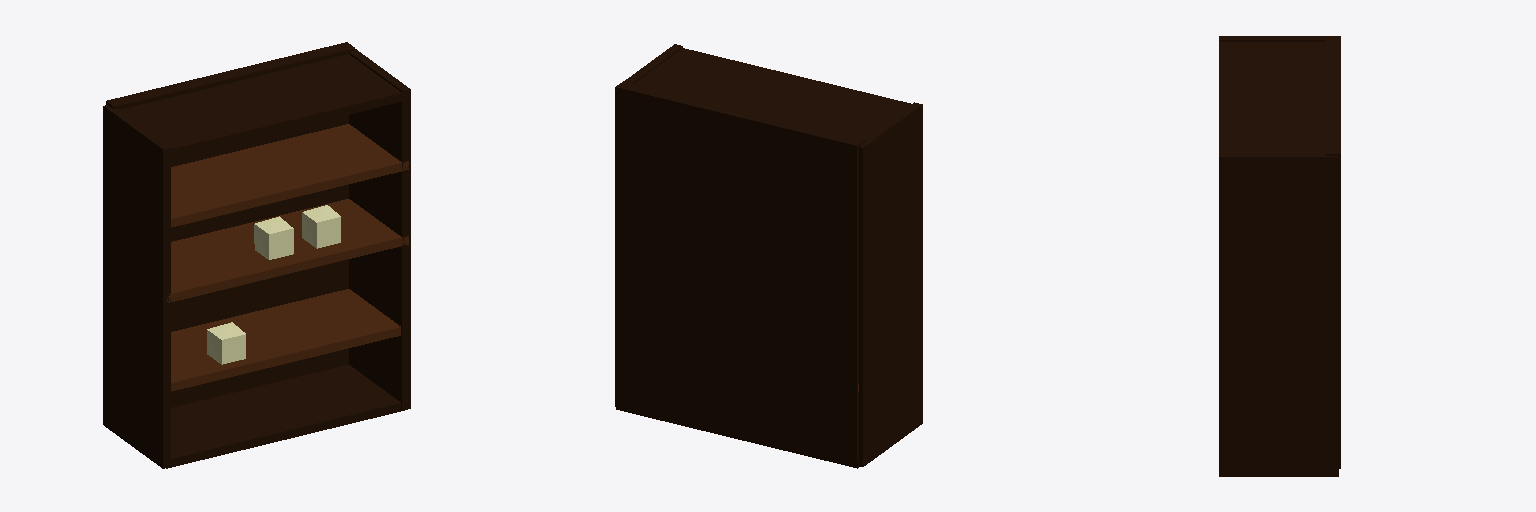
File: mueble2.obj
The picture shows the model from 3 angles: view 1: azimuth 30°, elevation 25°; view 2: azimuth 150°, elevation 25°; view 3: azimuth 270°, elevation 25°; orthographic projection.
Parts seen in each view (by area): view 1: Cube.032, Cube.030, Cube.029, Cube.033, Cube.028, Cube.031, Cube.009, Cube.034, Cube.037, Cube.038, Cube.035; view 2: Cube.030, Cube.032, Cube.029, Cube.028; view 3: Cube.031, Cube.029, Cube.030, Cube.032.
Part boxes in pixels (x1,y1,x2,y2): Cube.032: (103,105,170,468); Cube.030: (106,42,354,407); Cube.029: (121,54,408,158); Cube.033: (169,124,408,227); Cube.028: (166,365,407,468); Cube.031: (349,49,410,409); Cube.009: (171,289,400,391); Cube.034: (167,199,408,302); Cube.037: (254,216,293,259); Cube.038: (302,205,340,248); Cube.035: (207,322,245,364); Cube.030: (615,81,864,460); Cube.032: (859,102,922,466); Cube.029: (635,48,910,138); Cube.028: (616,402,858,468); Cube.031: (1219,153,1337,476); Cube.029: (1219,42,1324,152); Cube.030: (1325,36,1340,468); Cube.032: (1219,36,1324,41).
Size of the model in its own units: 2.4 by 3 by 1.03.